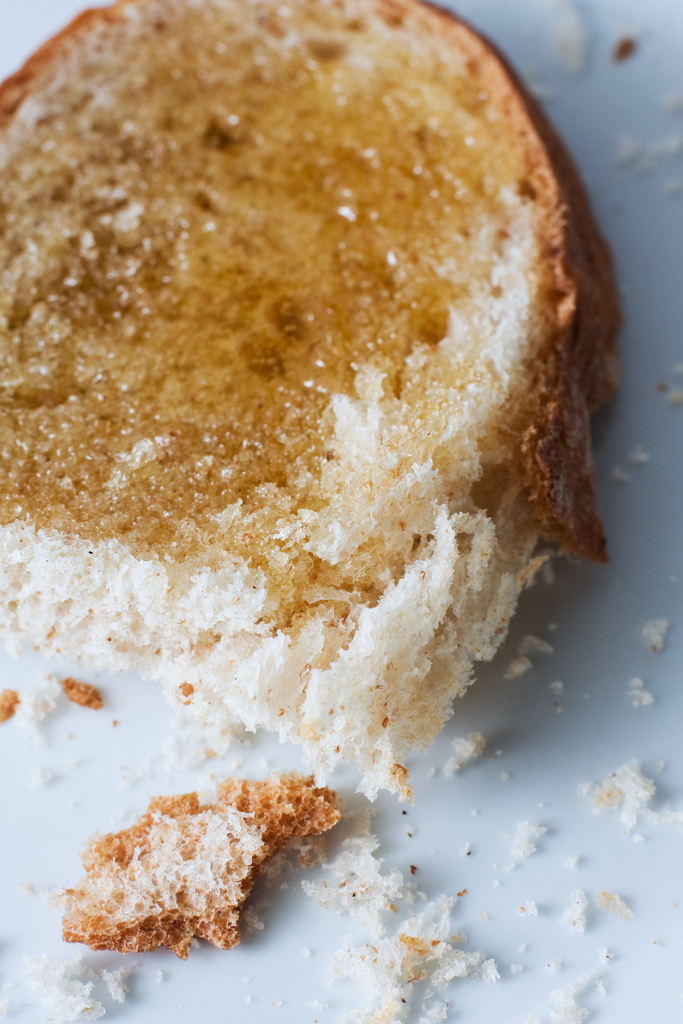slice of bread: (7, 10, 630, 960)
